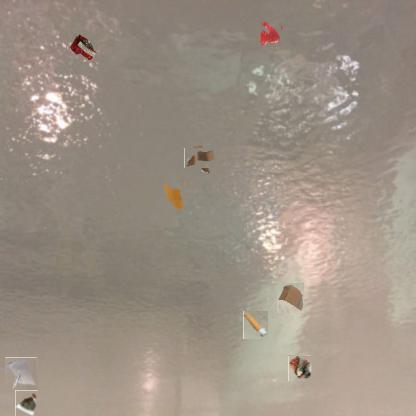dirty: (5, 358, 38, 390), (66, 32, 100, 62), (275, 283, 304, 313), (188, 145, 214, 172), (243, 312, 269, 339), (14, 390, 38, 416), (288, 355, 311, 381)
liquid: (258, 20, 282, 46), (164, 181, 184, 209)
